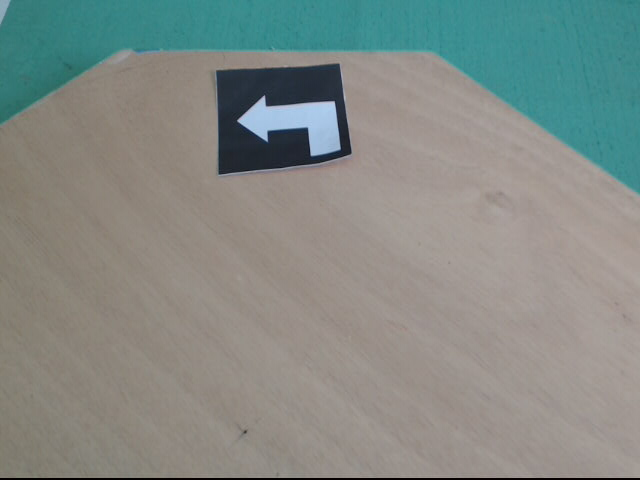left: (213, 63, 353, 176)
